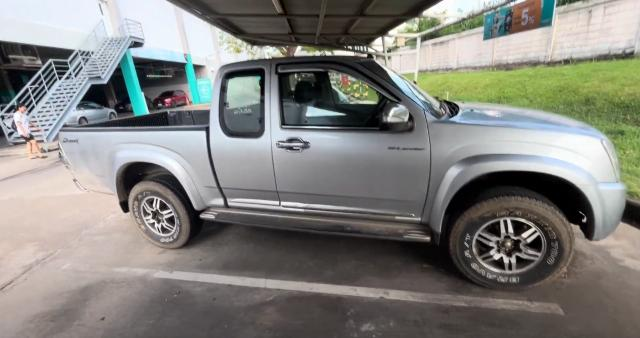pickup-truck: (62, 58, 624, 290)
